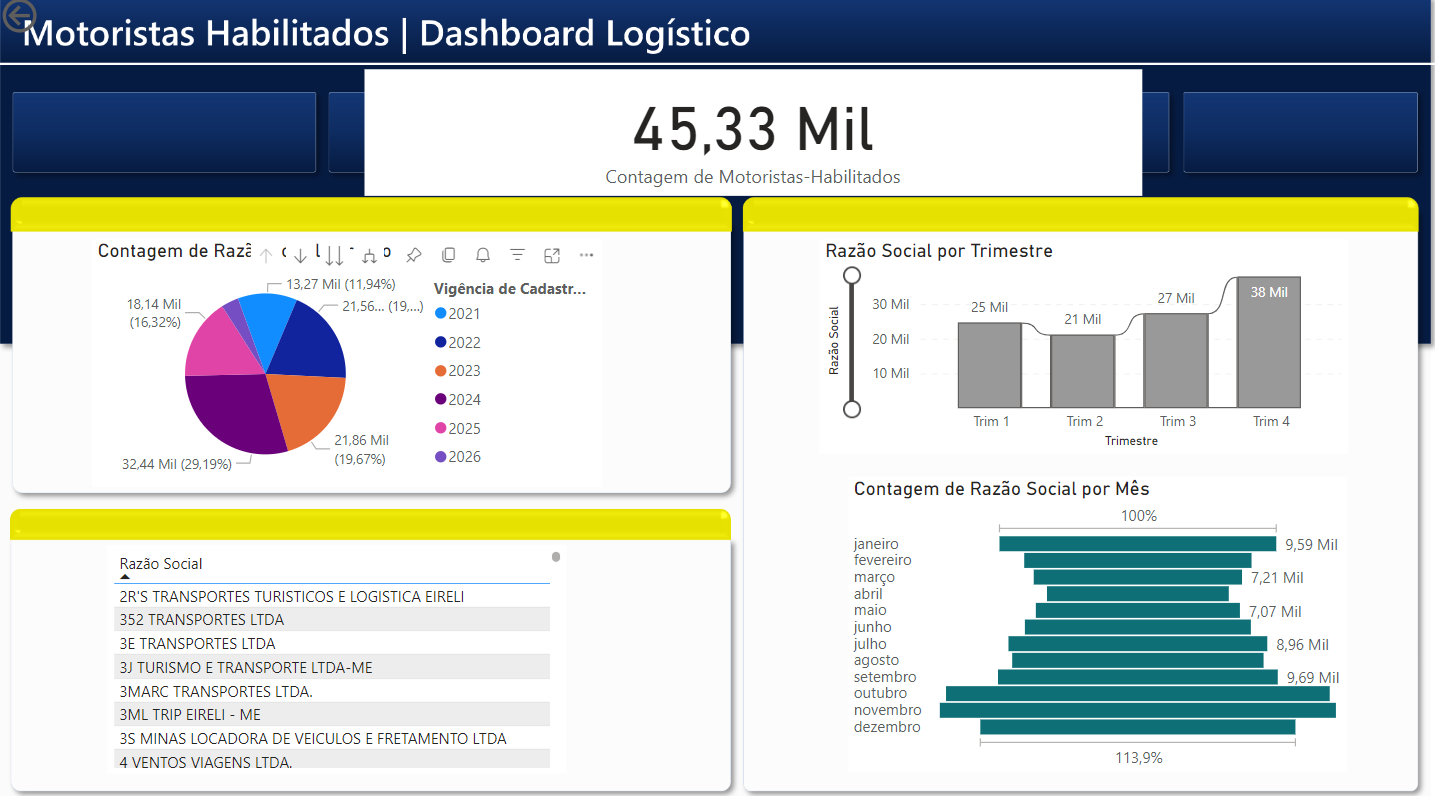

The page's visual inventory and layout, read from the dashboard file:
{"tool":"powerbi","page":{"name":"Página 1","canvas":[1280,720],"ordinal":0},"visuals":[{"type":"pieChart","fields":{"Category":["motoristas_habilitados_03_2021.vigencia_do_cadastro.Variation.Hierarquia de datas.Ano","motoristas_habilitados_03_2021.vigencia_do_cadastro.Variation.Hierarquia de datas.Trimestre","motoristas_habilitados_03_2021.vigencia_do_cadastro.Variation.Hierarquia de datas.Mês","motoristas_habilitados_03_2021.vigencia_do_cadastro.Variation.Hierarquia de datas.Dia"],"Y":["CountNonNull(motoristas_habilitados_03_2021.razao_social)"]},"box":[0,12.3,557.1,385.6],"z":0},{"type":"columnChart","fields":{"Category":["motoristas_habilitados_03_2021.vigencia_do_cadastro.Variation.Hierarquia de datas.Ano"],"Y":["CountNonNull(motoristas_habilitados_03_2021.razao_social)"]},"box":[583.2,11,631.2,385.6],"z":1000},{"type":"funnel","fields":{"Category":["motoristas_habilitados_03_2021.vigencia_do_cadastro.Variation.Hierarquia de datas.Mês"],"Y":["CountNonNull(Motoristas Habilitados.Razão Social)"]},"box":[583.2,392.5,631.2,328],"z":2000},{"type":"tableEx","fields":{"Values":["motoristas_habilitados_03_2021.razao_social"]},"box":[16.5,396.6,536.5,301.9],"z":3000}]}

Visuals, with their boxes in screenshot pixels (x1, y1, x2, y2), scaled from the page's 1280x720 canvas onto the 1435x796 screenshot:
pieChart - motoristas_habilitados_03_2021.vigencia_do_cadastro.Variation.Hierarquia de datas.Ano x motoristas_habilitados_03_2021.vigencia_do_cadastro.Variation.Hierarquia de datas.Trimestre: [x1=0, y1=14, x2=625, y2=440]
columnChart - motoristas_habilitados_03_2021.vigencia_do_cadastro.Variation.Hierarquia de datas.Ano x CountNonNull(motoristas_habilitados_03_2021.razao_social): [x1=654, y1=12, x2=1361, y2=438]
funnel - motoristas_habilitados_03_2021.vigencia_do_cadastro.Variation.Hierarquia de datas.Mês x CountNonNull(Motoristas Habilitados.Razão Social): [x1=654, y1=434, x2=1361, y2=795]
tableEx - motoristas_habilitados_03_2021.razao_social: [x1=18, y1=438, x2=620, y2=772]
